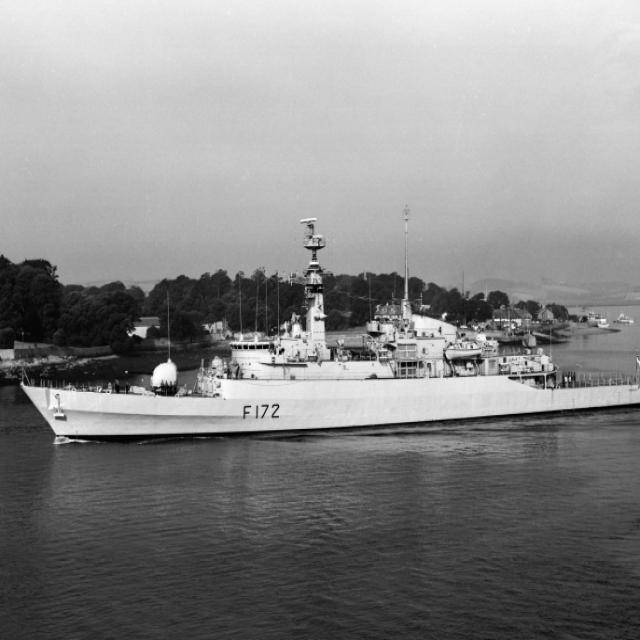Fragata: (15, 202, 640, 455)
